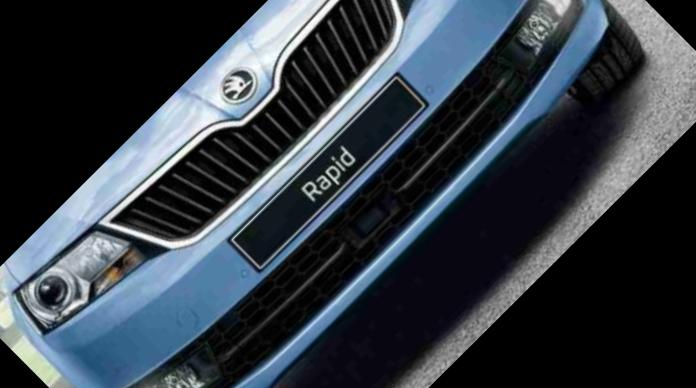plate: (212, 50, 447, 285)
